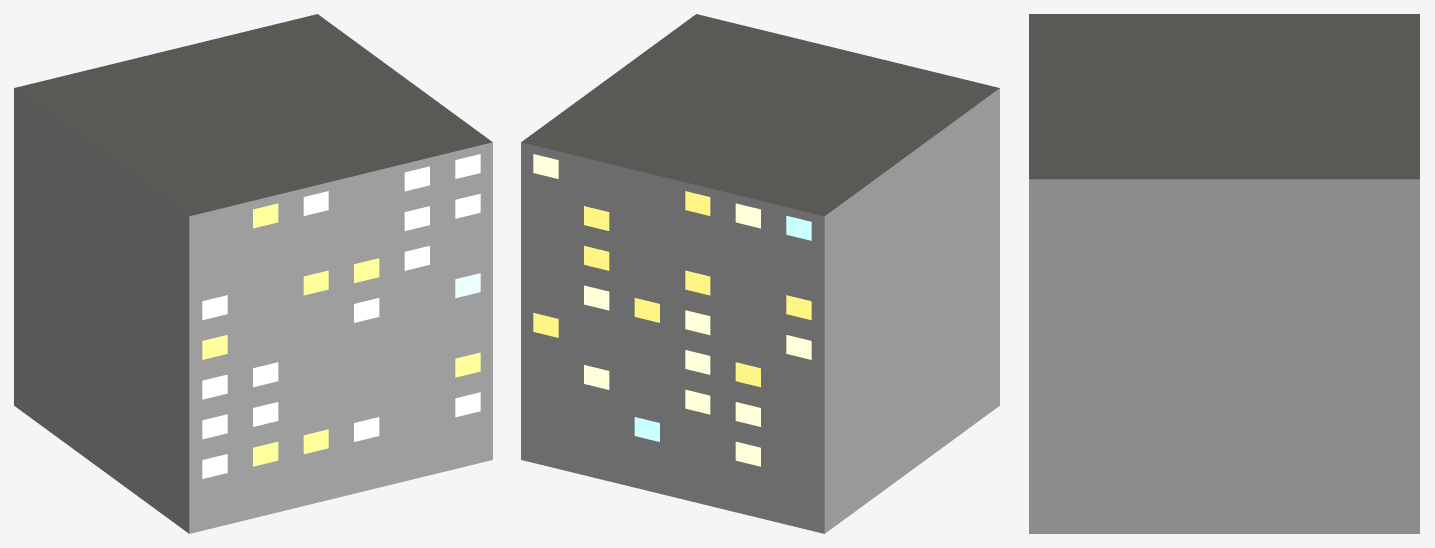
Rendered from city-block-lit-8.glb.
The picture shows the model from 3 angles, left to right: view 1: azimuth 30°, elevation 25°; view 2: azimuth 150°, elevation 25°; view 3: azimuth 270°, elevation 25°; orthographic projection. The views are drawn at different scales.
Visible parts, largest first — view 1: city_block, window warm, window amber; view 2: city_block, window warm, window amber, window tv; view 3: city_block.
Boxes of the visible parts, left/top/right/bottom form: city_block: left=14, top=14, right=492, bottom=533; window warm: left=202, top=154, right=480, bottom=478; window amber: left=202, top=203, right=480, bottom=466; city_block: left=521, top=14, right=999, bottom=533; window warm: left=533, top=154, right=811, bottom=466; window amber: left=533, top=191, right=811, bottom=387; window tv: left=634, top=215, right=811, bottom=441; city_block: left=1029, top=14, right=1419, bottom=533.
Size of the model in its own units: 1 by 1 by 1.
